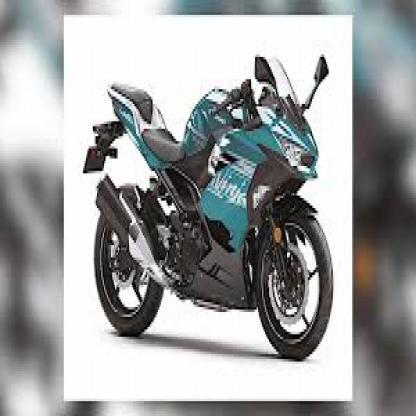Motorcycle: (80, 34, 338, 359)
